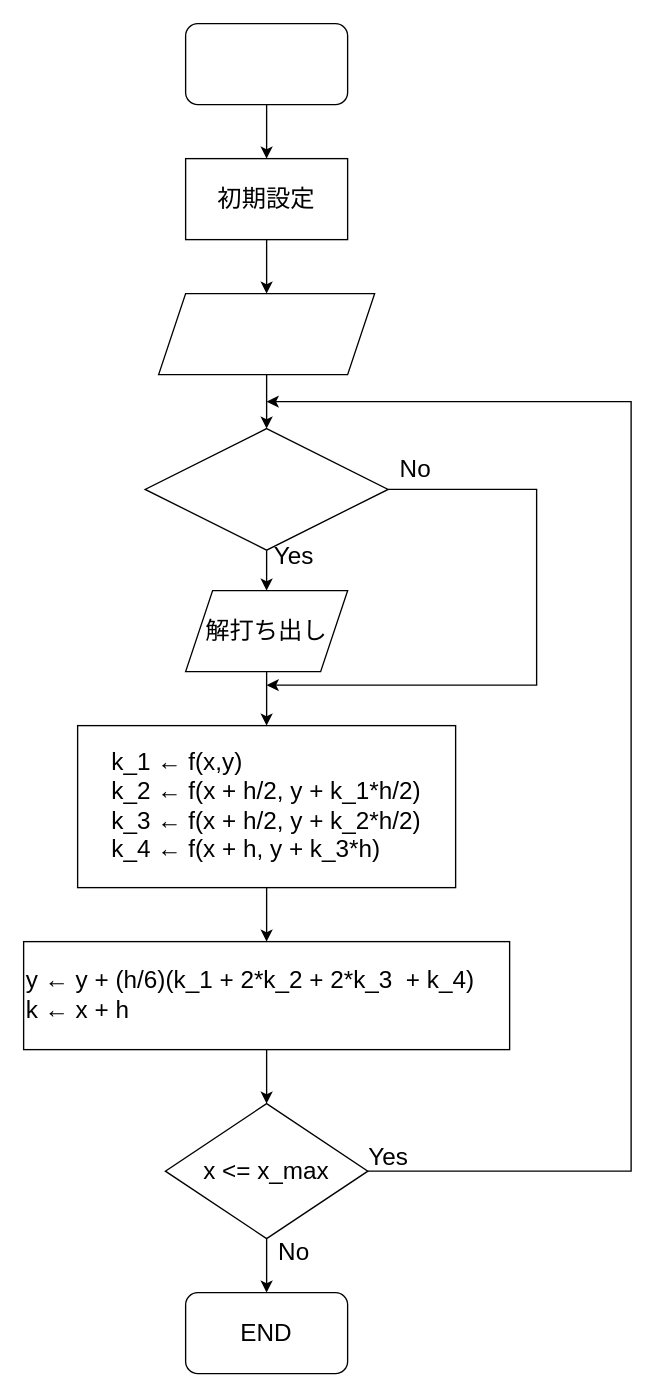
The diagram is 666 pixels wide and 1397 high, and some of its shapes have lost their labels. Each missing label, with the centre of its shape:
START: (266,63)
打ち出し条件: (266,488)
見出し打ち出し: (266,333)
